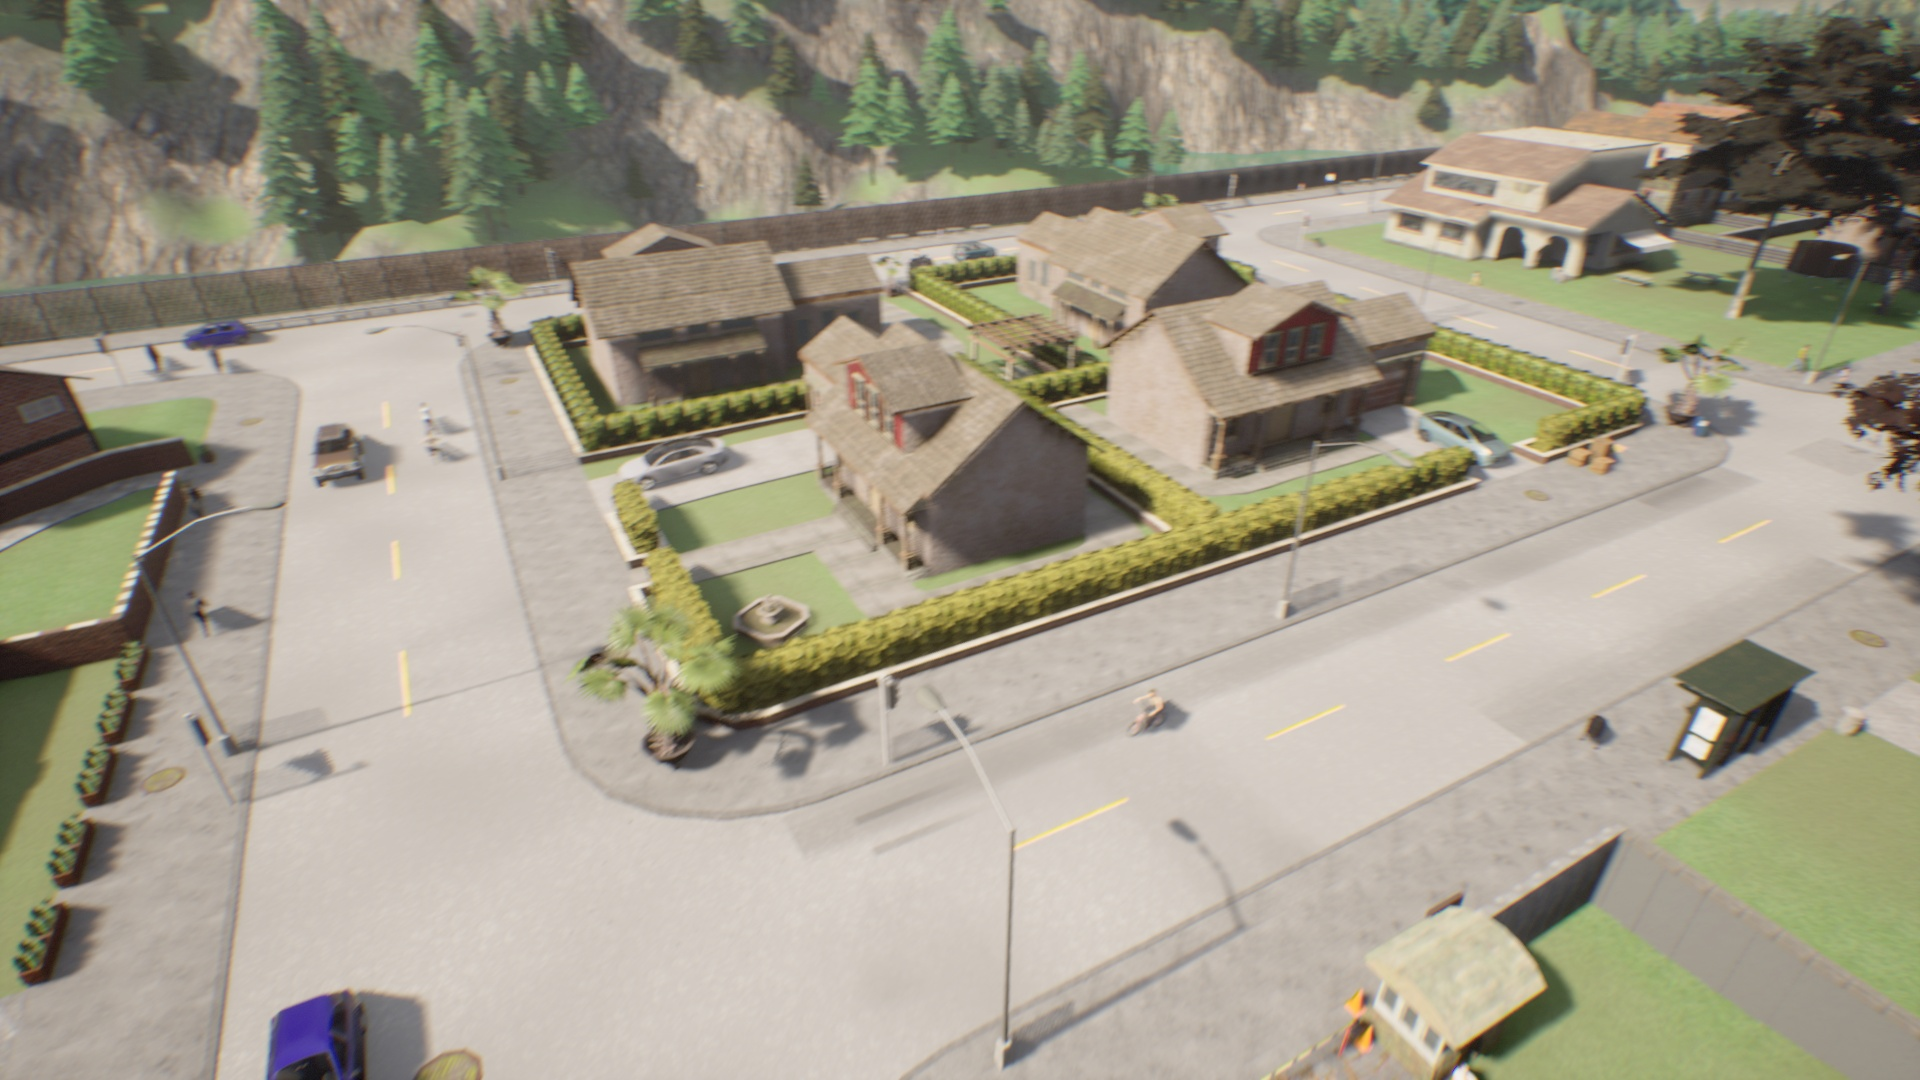Bicycle: (618, 438, 727, 487), (1120, 687, 1176, 740)
Car: (264, 984, 363, 1071), (1418, 405, 1509, 465), (309, 421, 367, 485), (179, 319, 245, 345), (955, 241, 1005, 264)
